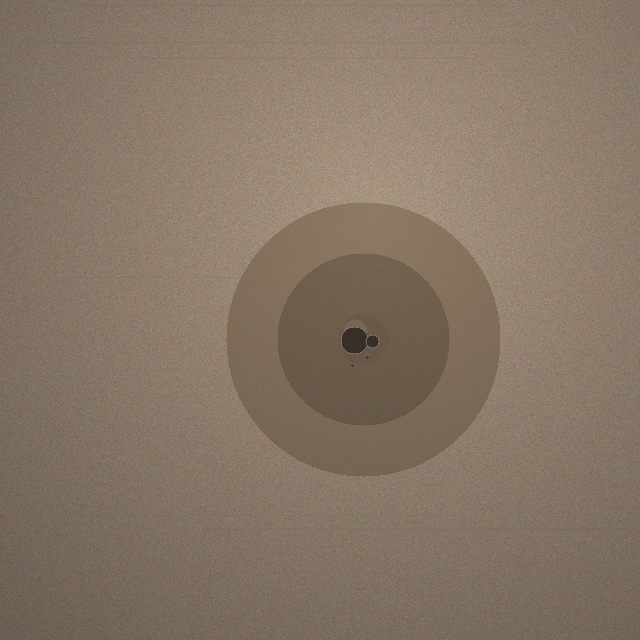shrinkage: (226, 202, 500, 476)
